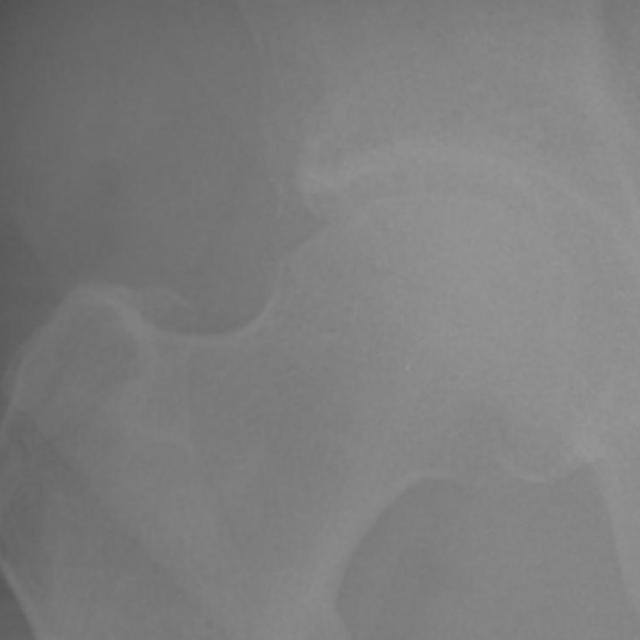Fitted_femural_head: (304, 188, 432, 304)
